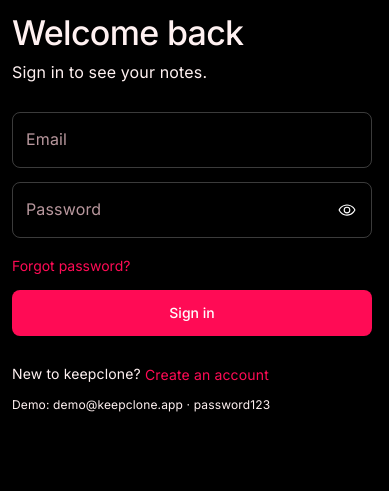
Scenario: AuthForm (login) › surfaces a server error as a form-level alert
In the field labelled "Email": (192, 140) [12,112,372,168], type "ava@keepclone.app"
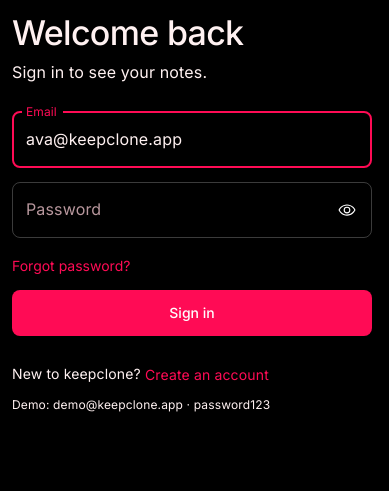
In the password field labelled "Password": (168, 210) [12,182,325,238], type "wrongpass"
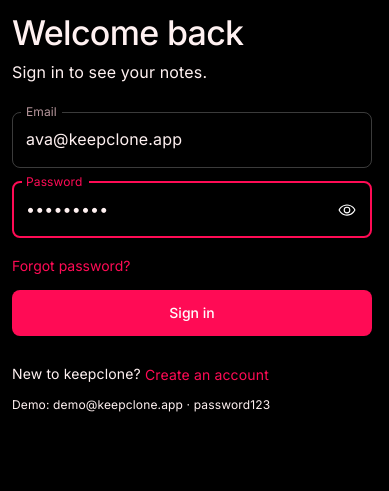
Click the button "Sign in": click(192, 313) [12,290,372,336]
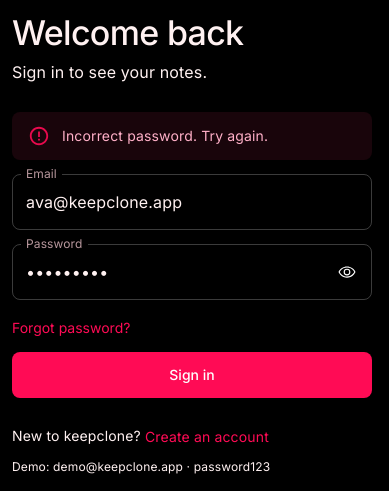
Result: the text "Incorrect password. Try again." is shown at [62,127,268,144]
